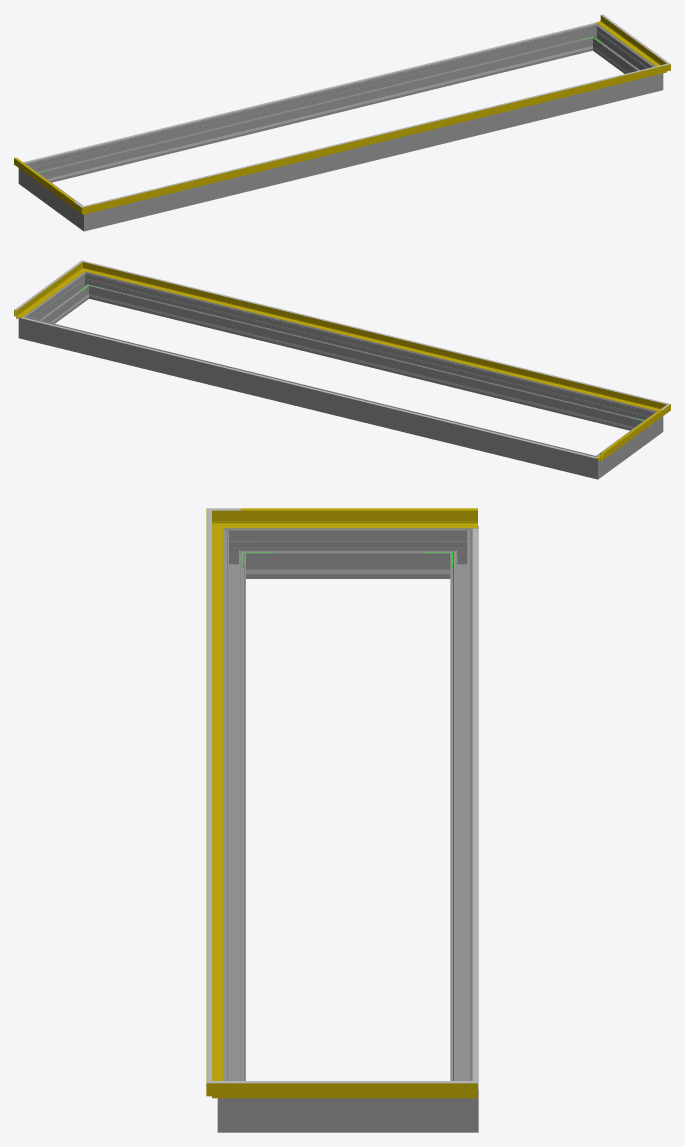
3 renders of one model, top to bottom at view 1: azimuth 30°, elevation 25°; view 2: azimuth 150°, elevation 25°; view 3: azimuth 270°, elevation 25°, orthographic. The views are drawn at different scales.
Parts seen in each view (by area): view 1: 3DGeom-277, 3DGeom-299, 3DGeom-56, 3DGeom-245, 3DGeom-298, 3DGeom-221, 3DGeom-66, 3DGeom-269, 3DGeom-58, 3DGeom-50, 3DGeom-271; view 2: 3DGeom-299, 3DGeom-277, 3DGeom-56, 3DGeom-240, 3DGeom-298, 3DGeom-221, 3DGeom-66, 3DGeom-269, 3DGeom-58, 3DGeom-279, 3DGeom-50, 3DGeom-285; view 3: 3DGeom-277, 3DGeom-299, 3DGeom-269, 3DGeom-56, 3DGeom-298, 3DGeom-50, 3DGeom-58, 3DGeom-221, 3DGeom-66, 3DGeom-285, 3DGeom-291, 3DGeom-279 (+1 smaller).
Part boxes in pixels (left/top/right/bottom): 3DGeom-277: left=35, top=26, right=590, bottom=182; 3DGeom-299: left=98, top=77, right=648, bottom=227; 3DGeom-56: left=95, top=68, right=656, bottom=211; 3DGeom-245: left=52, top=49, right=578, bottom=179; 3DGeom-298: left=594, top=29, right=651, bottom=73; 3DGeom-221: left=23, top=22, right=596, bottom=163; 3DGeom-66: left=95, top=66, right=655, bottom=203; 3DGeom-269: left=27, top=168, right=79, bottom=224; 3DGeom-58: left=596, top=15, right=659, bottom=65; 3DGeom-50: left=14, top=158, right=73, bottom=207; 3DGeom-271: left=75, top=203, right=98, bottom=231; 3DGeom-299: left=91, top=274, right=646, bottom=430; 3DGeom-277: left=33, top=319, right=585, bottom=475; 3DGeom-56: left=92, top=265, right=654, bottom=409; 3DGeom-240: left=103, top=297, right=629, bottom=428; 3DGeom-298: left=29, top=277, right=87, bottom=323; 3DGeom-221: left=21, top=317, right=596, bottom=458; 3DGeom-66: left=95, top=264, right=655, bottom=401; 3DGeom-269: left=602, top=416, right=654, bottom=472; 3DGeom-58: left=14, top=267, right=80, bottom=318; 3DGeom-279: left=583, top=452, right=606, bottom=479; 3DGeom-50: left=596, top=411, right=662, bottom=461; 3DGeom-285: left=18, top=312, right=35, bottom=341; 3DGeom-277: left=450, top=540, right=478, bottom=1080; 3DGeom-299: left=223, top=540, right=245, bottom=1080; 3DGeom-269: left=251, top=528, right=444, bottom=578; 3DGeom-56: left=206, top=523, right=223, bottom=1080; 3DGeom-298: left=251, top=1098, right=444, bottom=1132; 3DGeom-50: left=240, top=510, right=477, bottom=528; 3DGeom-58: left=240, top=1083, right=477, bottom=1098; 3DGeom-221: left=473, top=528, right=478, bottom=1088; 3DGeom-66: left=206, top=523, right=211, bottom=1068; 3DGeom-285: left=444, top=1077, right=478, bottom=1132; 3DGeom-291: left=217, top=1077, right=251, bottom=1132; 3DGeom-279: left=444, top=526, right=478, bottom=578.
Bounding box in the file's own units: 6.1 × 0.2669 × 1.22.
